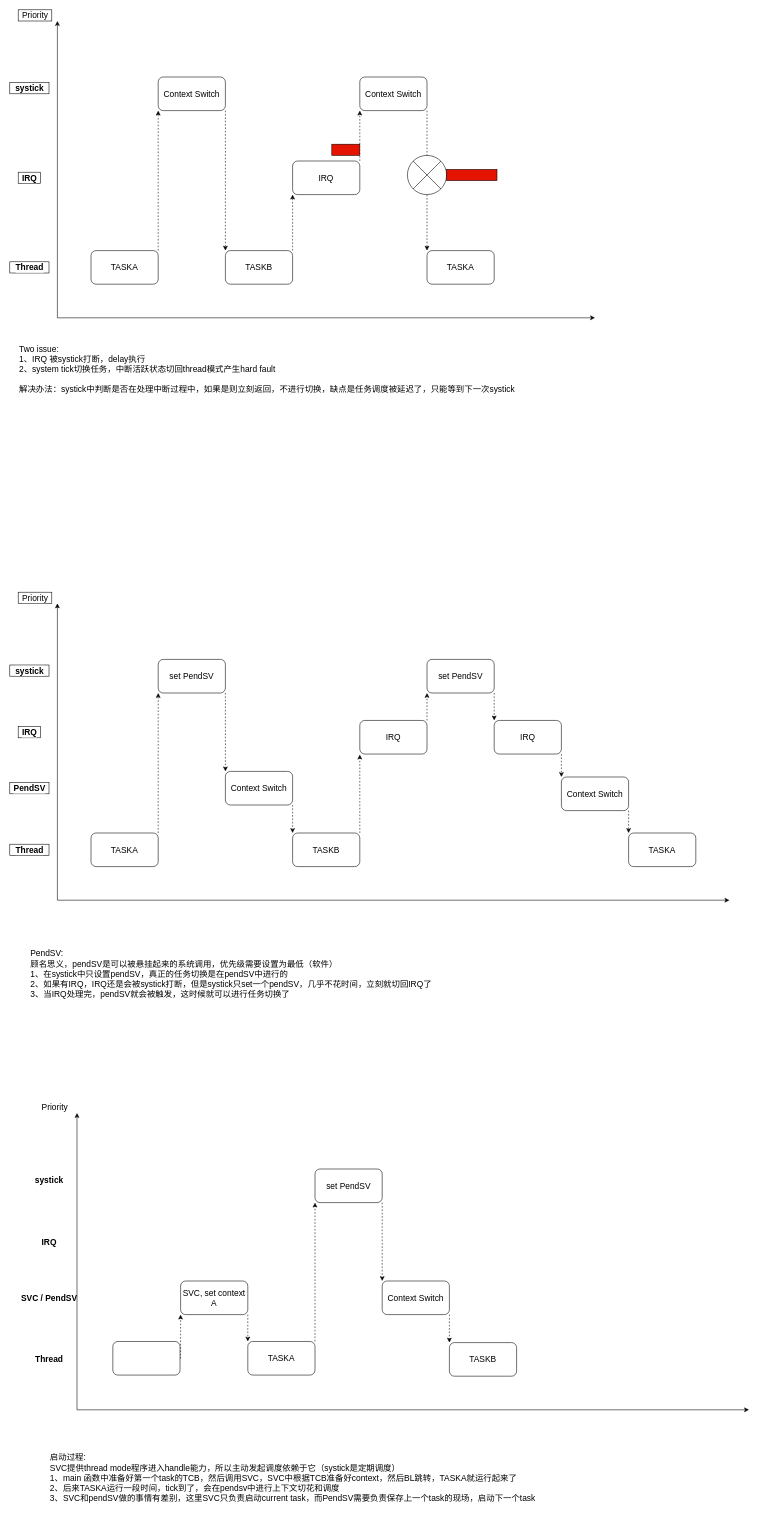
Image size: 763x1515. Some labels were removed from this diagram. Here are the shapes that lost their labels. From the top down, the centre of each, then its label:
(345,149): Delay
(471,175): Hard Fault
(146,1358): main call SVC
